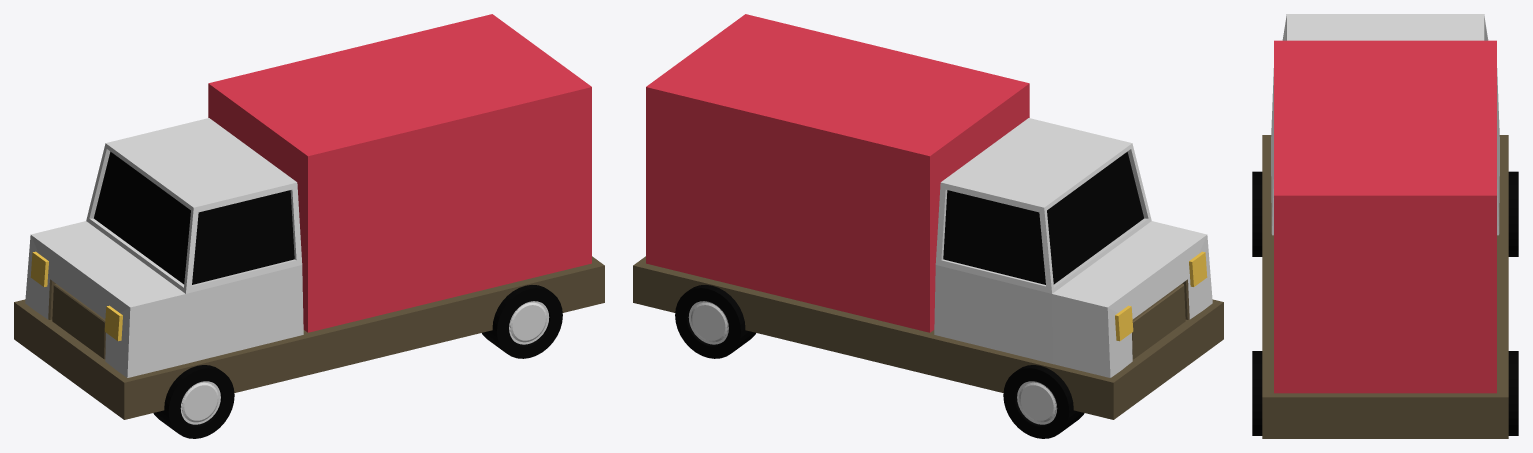
File: truck.fbx
The picture shows the model from 3 angles, left to right: view 1: azimuth 30°, elevation 25°; view 2: azimuth 150°, elevation 25°; view 3: azimuth 270°, elevation 25°; orthographic projection. The views are drawn at different scales.
Visible parts, largest first — view 1: Cube.004; view 2: Cube.004; view 3: Cube.004.
Boxes of the visible parts, x1=… form: Cube.004: x1=14, y1=14, x2=604, y2=438; Cube.004: x1=633, y1=14, x2=1223, y2=438; Cube.004: x1=1252, y1=14, x2=1518, y2=438.
Bounding box in the file's own units: 557 × 273 × 239.
